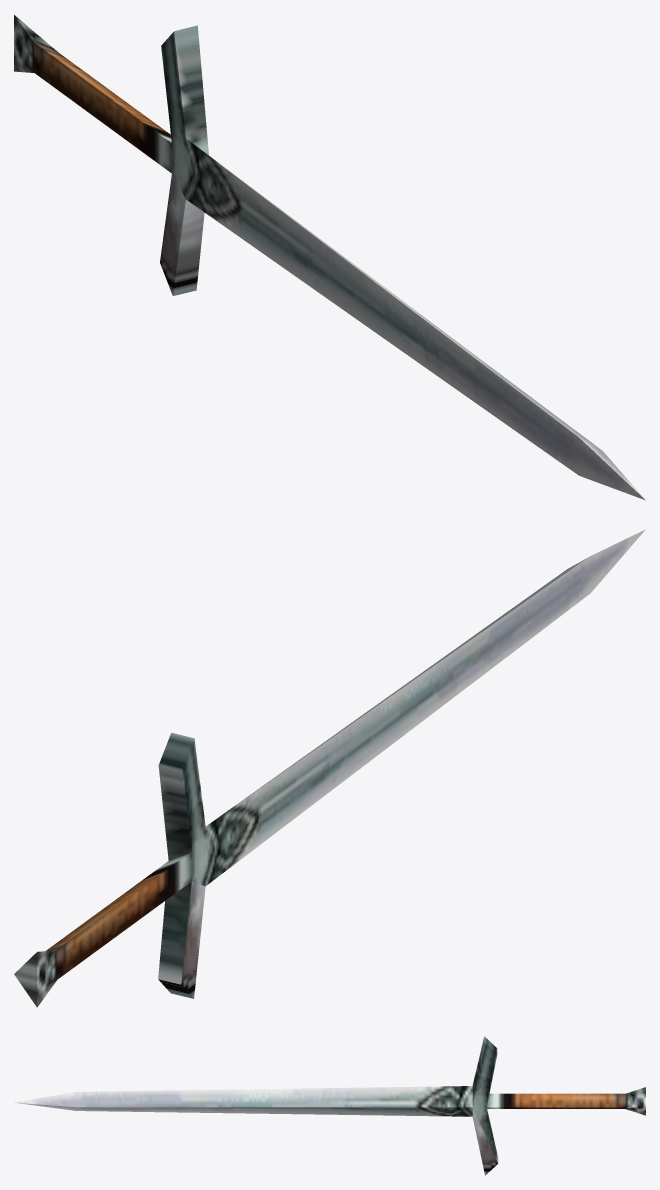
Rendered from wp_sword1.glb.
3 renders of one model, top to bottom at view 1: azimuth 30°, elevation 25°; view 2: azimuth 150°, elevation 25°; view 3: azimuth 270°, elevation 25°, orthographic. The views are drawn at different scales.
Visible parts, largest first — view 1: wp_sword1-col; view 2: wp_sword1-col; view 3: wp_sword1-col.
Boxes of the visible parts, box(x1,y1,x2,y2) form: wp_sword1-col: box(14, 15, 645, 500); wp_sword1-col: box(14, 529, 645, 1007); wp_sword1-col: box(15, 1036, 645, 1175).
Bounding box in the file's own units: 0.0276 × 0.2881 × 1.23.
Materials: 1 (1 with a texture image).
